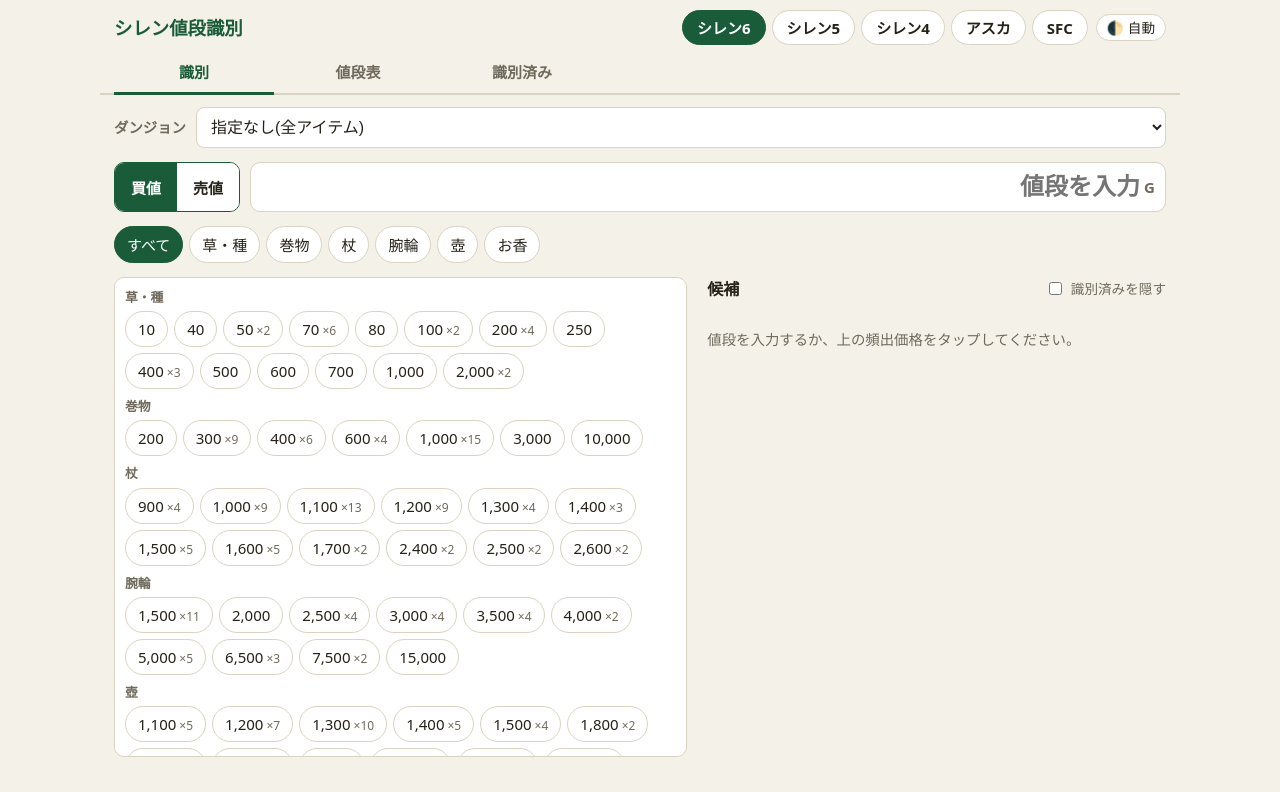
Test case: App (実データでの結合テスト) › 値段表タブに全カテゴリの表が出る
Click the tab "値段表": (358, 73) [278,51,438,95]
(page scrolled)
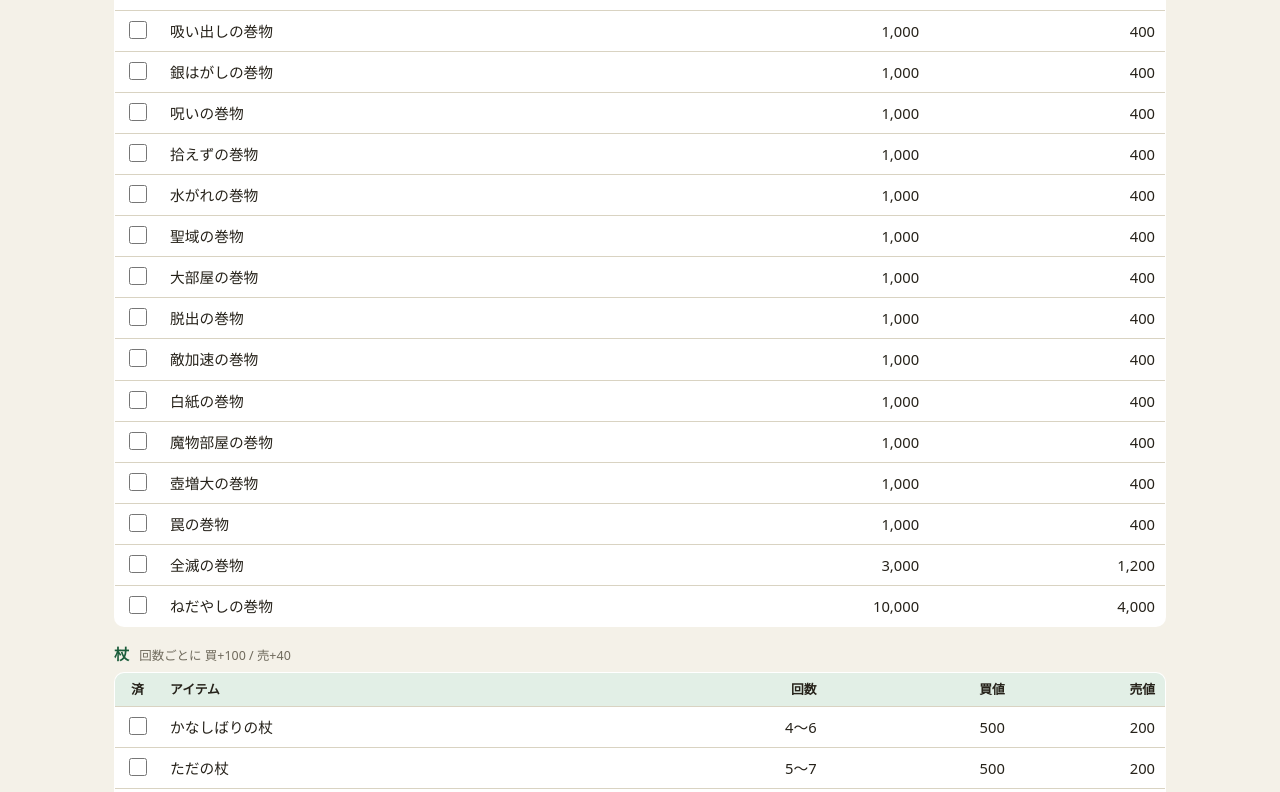
Result: the text "白紙の巻物" is shown at [160,380,660,421]
